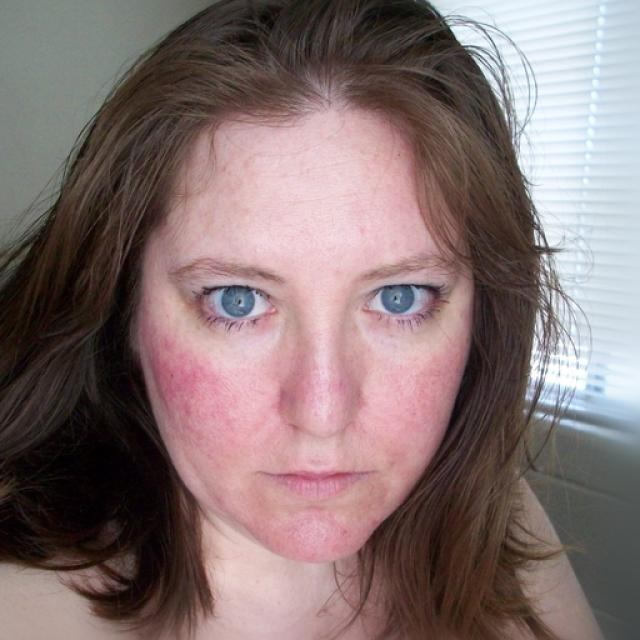neutral: (135, 113, 478, 562)
